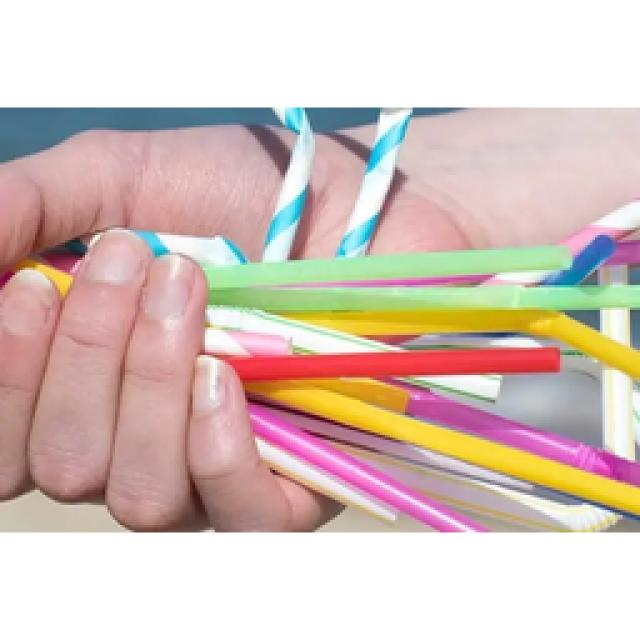plastic: (140, 108, 638, 528), (338, 110, 410, 255), (15, 255, 78, 295)
